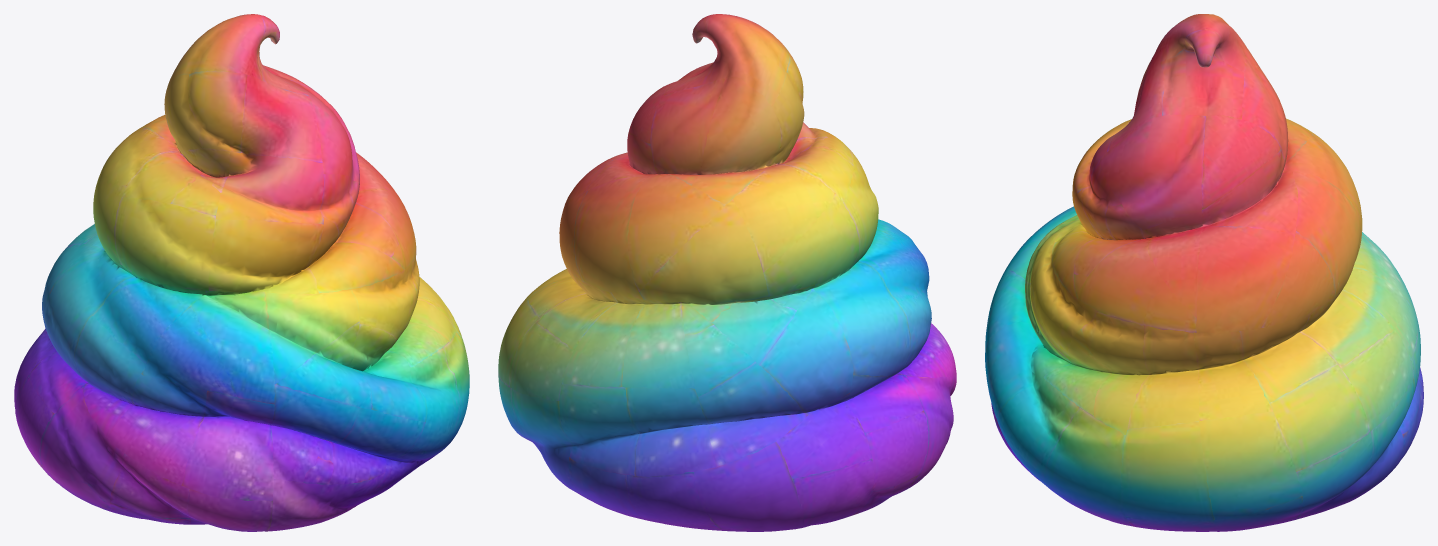
The picture shows the model from 3 angles, left to right: view 1: azimuth 30°, elevation 25°; view 2: azimuth 150°, elevation 25°; view 3: azimuth 270°, elevation 25°; orthographic projection.
Parts seen in each view (by area): view 1: mesh_node; view 2: mesh_node; view 3: mesh_node.
Part boxes in pixels (box(x1,y1,x2,y2)): mesh_node: box(14, 14, 469, 531); mesh_node: box(498, 14, 956, 531); mesh_node: box(985, 14, 1423, 531).
Bounding box in the file's own units: 1.8 × 1.9 × 1.7.
1 material, 1 textured.
